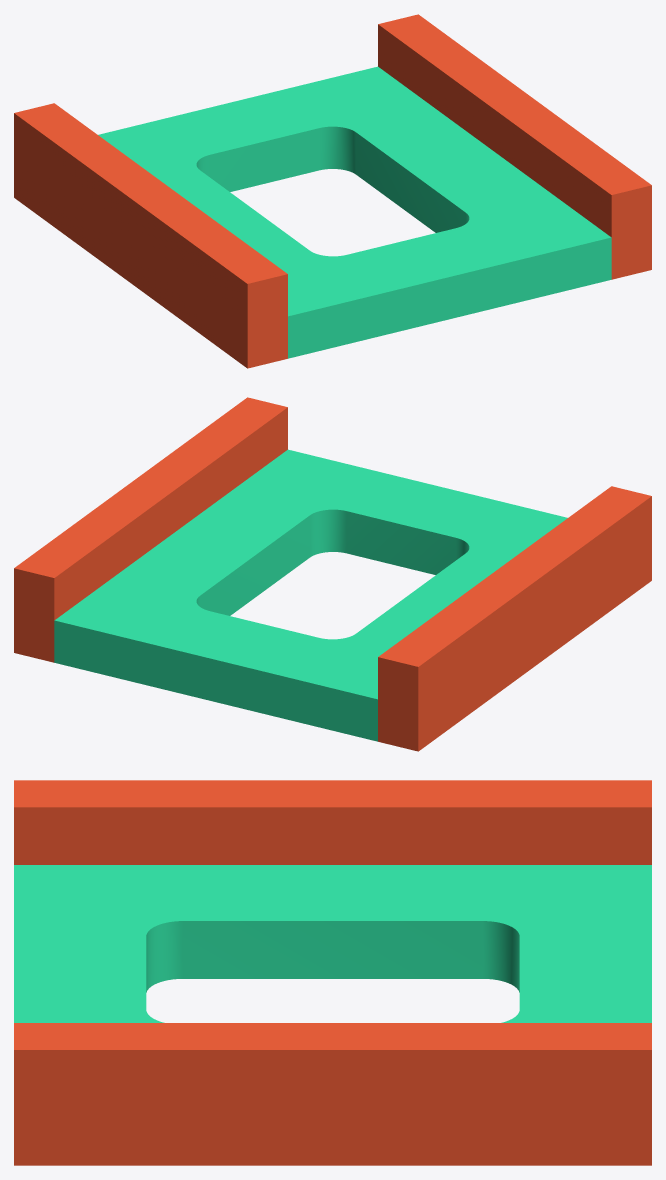
File: track_8.fbx
3 renders of one model, top to bottom at view 1: azimuth 30°, elevation 25°; view 2: azimuth 150°, elevation 25°; view 3: azimuth 270°, elevation 25°, orthographic. The views are drawn at different scales.
Visible parts, largest first — view 1: straight_hole_17; view 2: straight_hole_17; view 3: straight_hole_17.
Part boxes in pixels (x1,y1,x2,y2): straight_hole_17: (14,14,651,368); straight_hole_17: (14,397,651,751); straight_hole_17: (14,780,651,1165).
Size of the model in its own units: 10 by 2 by 10.
